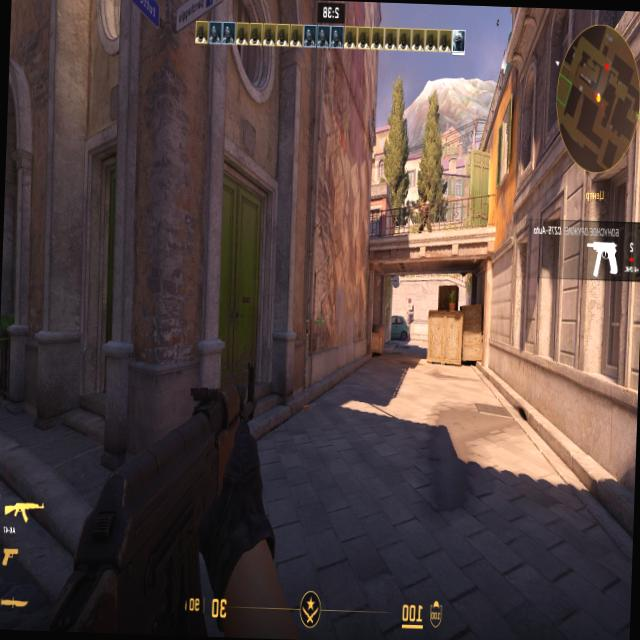T: (420, 194, 430, 227)
T_heat: (423, 196, 426, 200)
